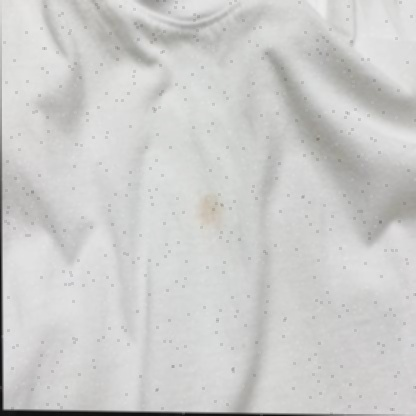coffee: (196, 194, 223, 226)
